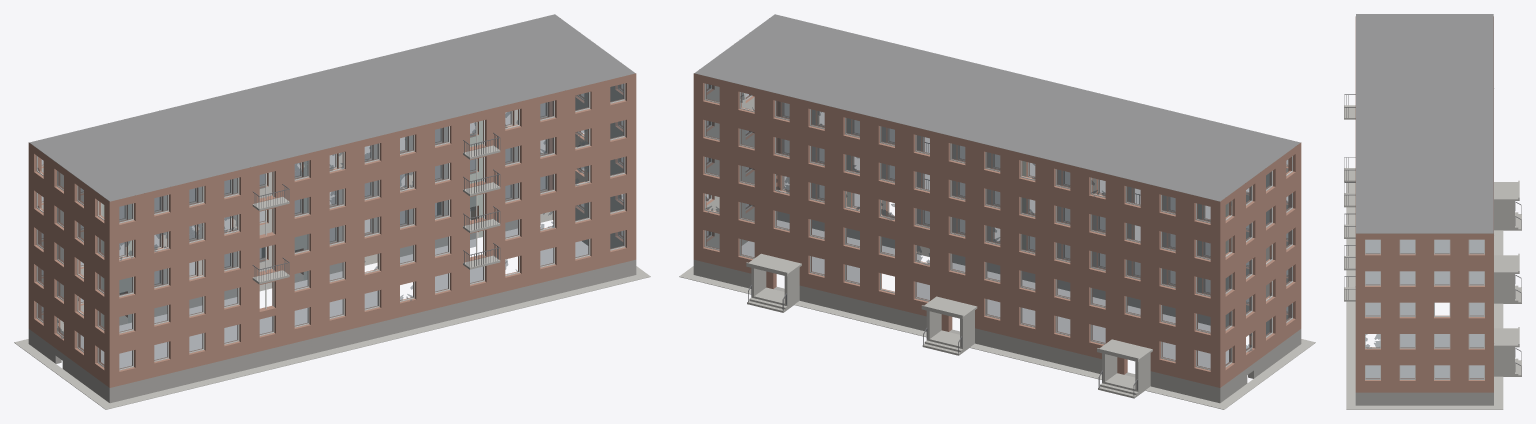
3 renders of one model, left to right at view 1: azimuth 30°, elevation 25°; view 2: azimuth 150°, elevation 25°; view 3: azimuth 270°, elevation 25°, orthographic. The views are drawn at different scales.
Parts seen in each view (by area): view 1: b6_lod1_outer__brick_facade, b6_lod1_slab__roof, b6_lod1_glass, b6_lod1_outer__plinth, b6_lod1_windows, b6_lod1_outer__wall_room, b6_lod1_apron, b6_lod1_railing, b6_lod1_balcony__monolith, b6_lod1_outer__stairwell_wall; view 2: b6_lod1_outer__brick_facade, b6_lod1_slab__roof, b6_lod1_glass, b6_lod1_outer__plinth, b6_lod1_windows, b6_lod1_outer__wall_room, b6_lod1_porch__monolith, b6_lod1_apron, b6_lod1_canopy__monolith, b6_lod1_outer__stairwell_wall; view 3: b6_lod1_slab__roof, b6_lod1_outer__brick_facade, b6_lod1_glass, b6_lod1_apron, b6_lod1_porch__monolith, b6_lod1_outer__plinth, b6_lod1_canopy__monolith, b6_lod1_windows, b6_lod1_balcony__monolith, b6_lod1_railing.
Boxes of the visible parts, x1,y1,x2,y2 form: b6_lod1_outer__brick_facade: (28, 73, 636, 387); b6_lod1_slab__roof: (29, 14, 635, 201); b6_lod1_glass: (37, 84, 624, 369); b6_lod1_outer__plinth: (28, 232, 636, 403); b6_lod1_windows: (36, 83, 625, 370); b6_lod1_outer__wall_room: (41, 86, 623, 334); b6_lod1_apron: (14, 266, 650, 409); b6_lod1_railing: (252, 132, 500, 281); b6_lod1_balcony__monolith: (252, 145, 500, 284); b6_lod1_outer__stairwell_wall: (102, 120, 482, 326); b6_lod1_outer__brick_facade: (693, 73, 1301, 387); b6_lod1_slab__roof: (694, 14, 1300, 201); b6_lod1_glass: (705, 84, 1292, 369); b6_lod1_outer__plinth: (693, 259, 1301, 403); b6_lod1_windows: (704, 83, 1292, 370); b6_lod1_outer__wall_room: (706, 86, 1288, 334); b6_lod1_porch__monolith: (747, 267, 1150, 398); b6_lod1_apron: (679, 266, 1315, 409); b6_lod1_canopy__monolith: (746, 253, 1152, 361); b6_lod1_outer__stairwell_wall: (847, 118, 1227, 292); b6_lod1_slab__roof: (1356, 14, 1493, 233); b6_lod1_outer__brick_facade: (1355, 16, 1493, 392); b6_lod1_glass: (1365, 88, 1494, 378); b6_lod1_apron: (1346, 183, 1503, 409); b6_lod1_porch__monolith: (1494, 201, 1521, 376); b6_lod1_outer__plinth: (1355, 392, 1493, 405); b6_lod1_canopy__monolith: (1494, 180, 1519, 347); b6_lod1_windows: (1365, 239, 1484, 379); b6_lod1_balcony__monolith: (1344, 105, 1355, 301); b6_lod1_railing: (1344, 94, 1521, 374).
Size of the model in its own units: 46.6 by 16.5 by 15.4.
